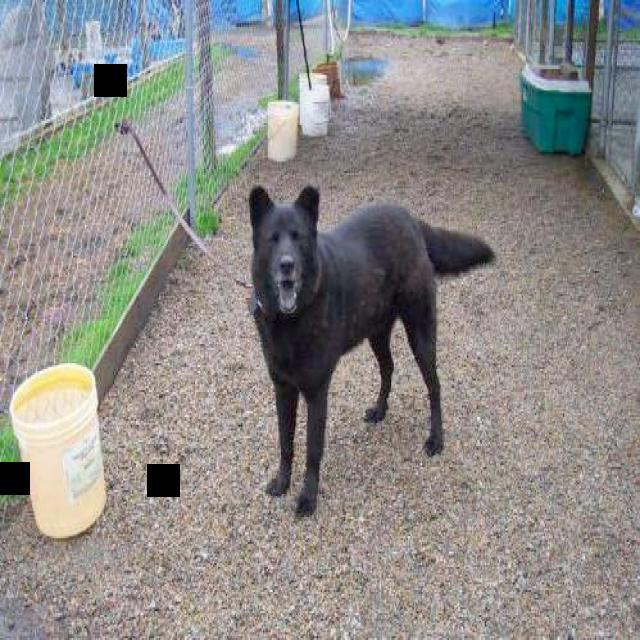adult_dog: (243, 187, 505, 523)
